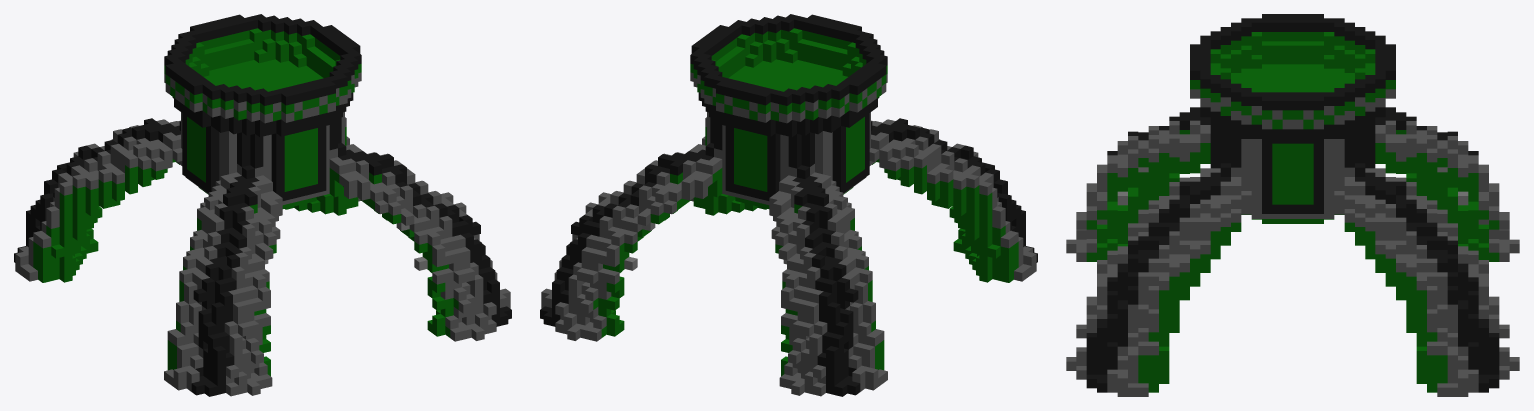
The model's file is aoeTowerBase.fbx.
The picture shows the model from 3 angles, left to right: view 1: azimuth 30°, elevation 25°; view 2: azimuth 150°, elevation 25°; view 3: azimuth 270°, elevation 25°; orthographic projection. The views are drawn at different scales.
Visible parts, largest first — view 1: aoeTower_0; view 2: aoeTower_0; view 3: aoeTower_0.
Part boxes in pixels (x1=…): aoeTower_0: x1=14, y1=14, x2=511, y2=396; aoeTower_0: x1=540, y1=14, x2=1037, y2=396; aoeTower_0: x1=1066, y1=14, x2=1519, y2=396.
Bounding box in the file's own units: 40 × 27 × 44.
Materials: 1 (1 with a texture image).
